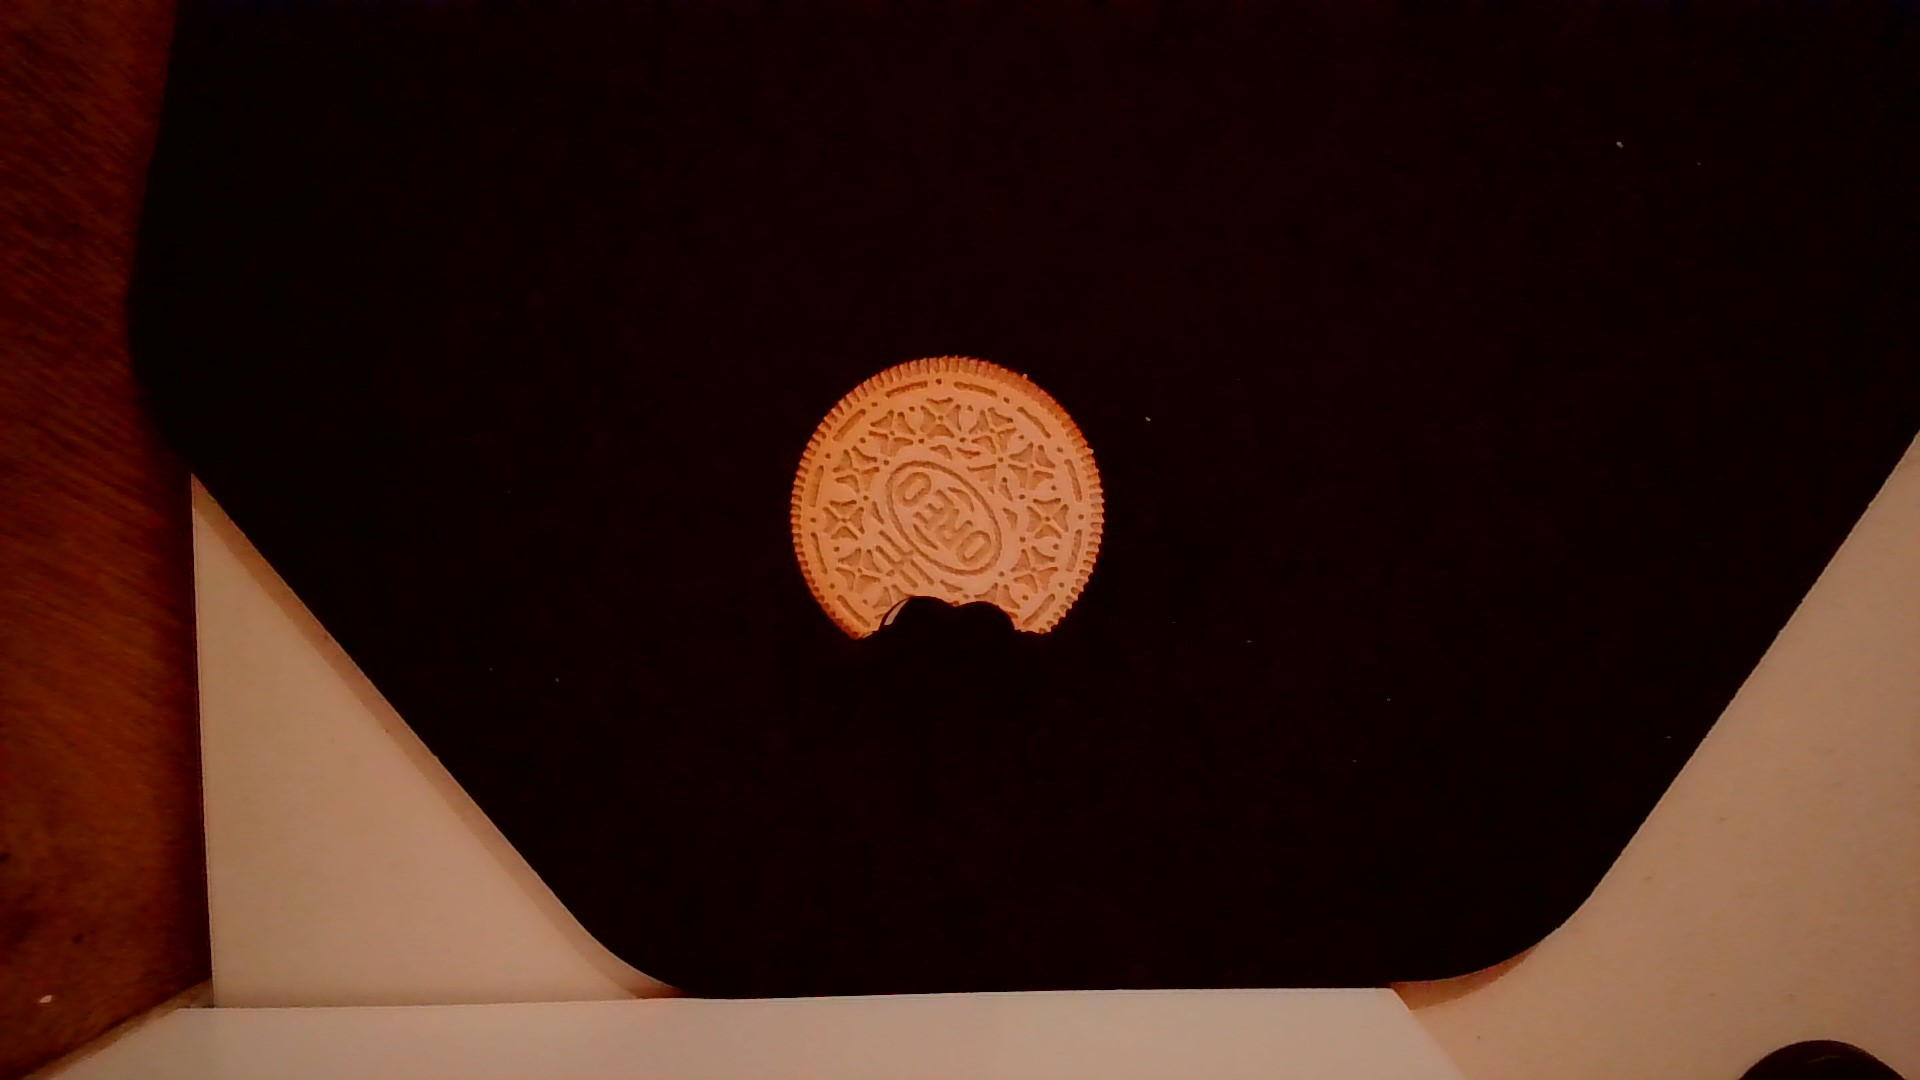Mangé: (845, 575, 1033, 675)
Oréo: (778, 345, 1112, 642)
